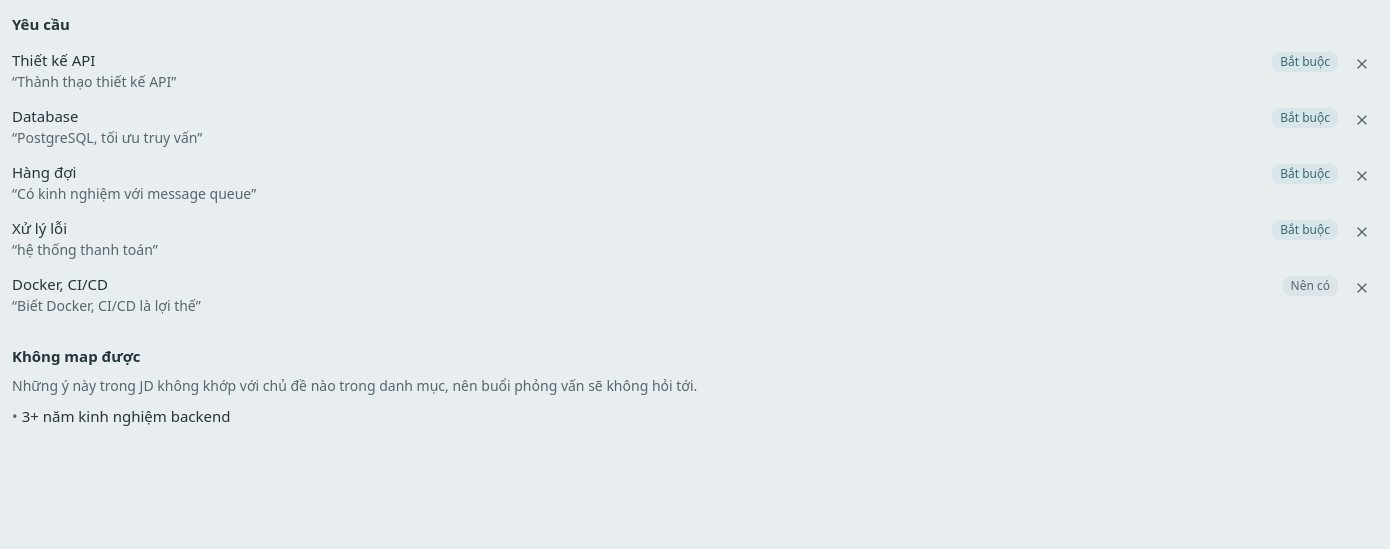
Test: RequirementsEditor › keeps the edits when saving fails
This screenshot has width=1390, height=549.
Click the button with aria-label "đổi sang Nên có" at (1305, 60), box [1272,48,1338,72]
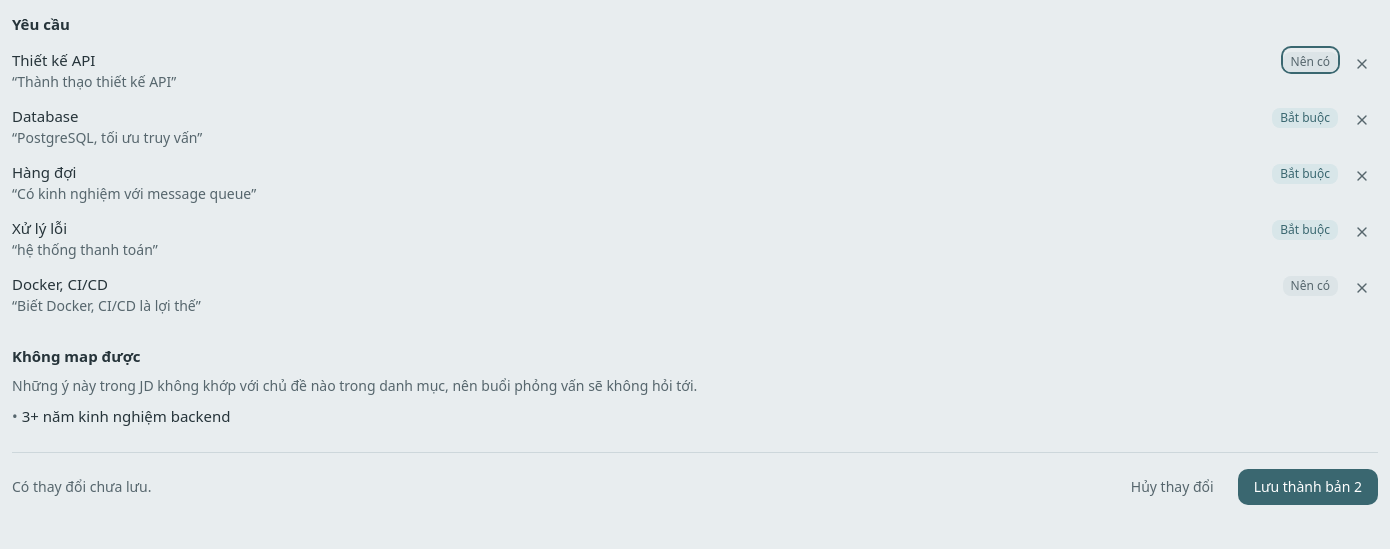
Click the button "Lưu thành bản 2" at (1308, 487), box [1238,469,1378,505]
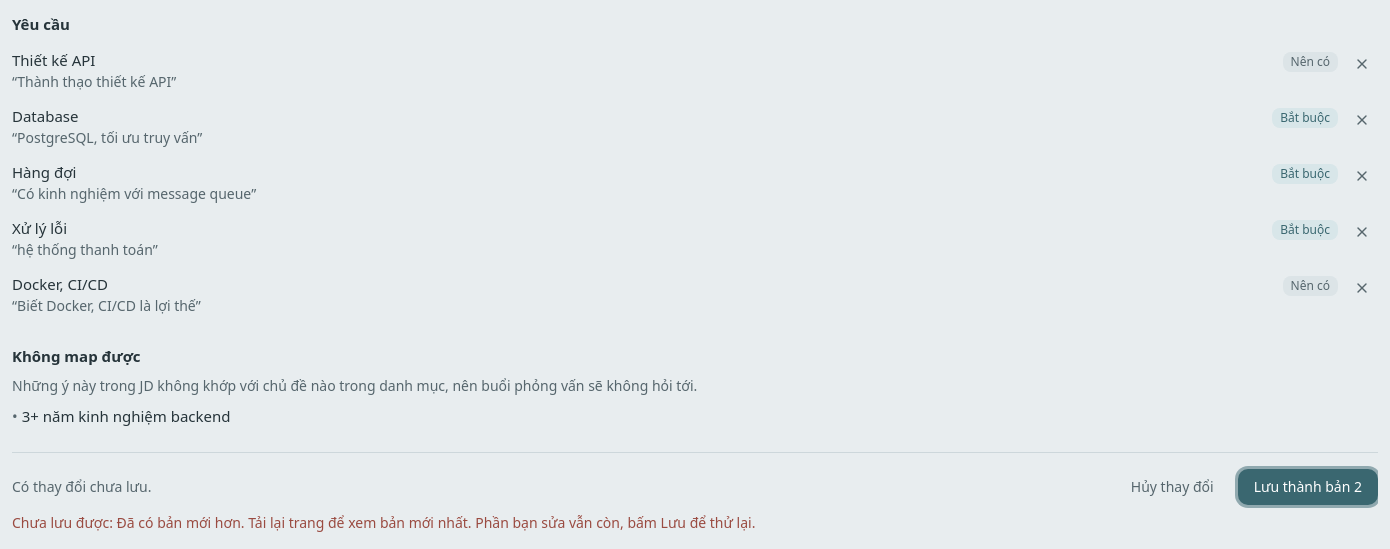
Check: the 1st text "Nên có" is shown, box [1282,52,1338,72]
Check: the message shows "Phần bạn sửa vẫn còn", box [472,513,755,532]
